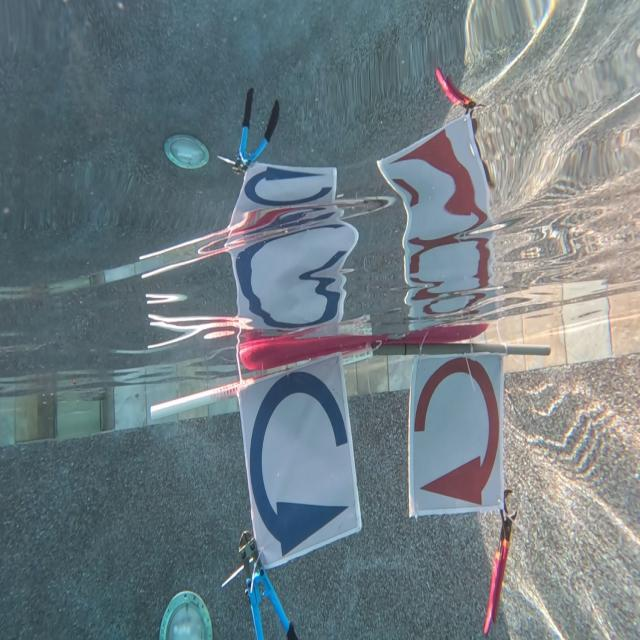blue_side: (237, 351, 362, 573)
red_side: (407, 352, 504, 520)
